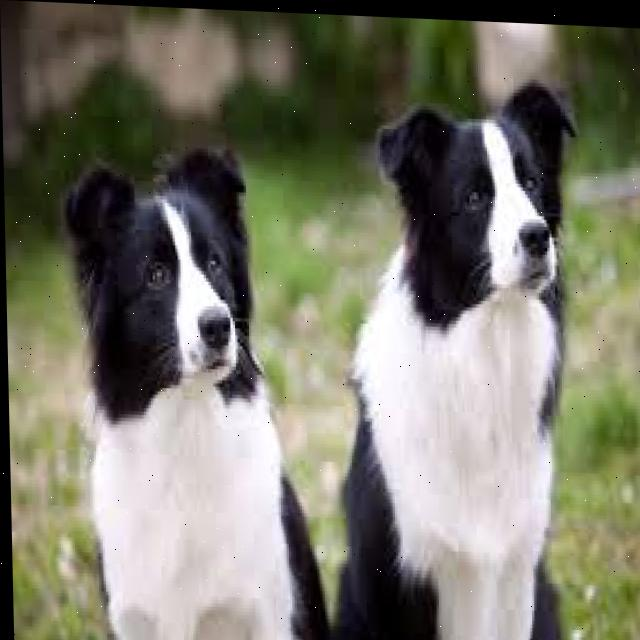BORDER_COLLIE: (323, 68, 589, 640), (57, 137, 324, 640)
